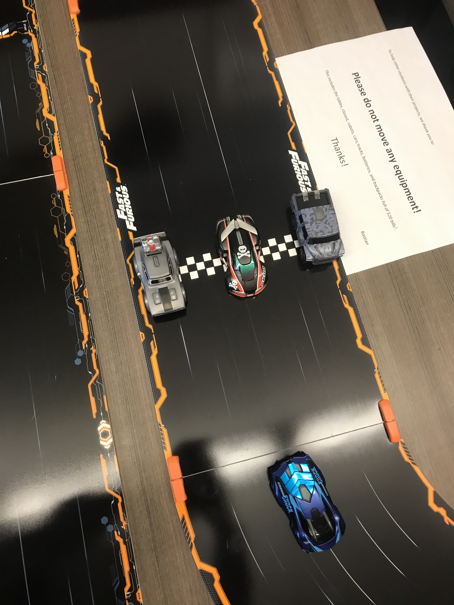Charger: (131, 226, 191, 317)
Finish Line: (149, 230, 316, 284)
MXT: (290, 188, 350, 264)
Shock: (266, 452, 346, 554)
Skull: (215, 215, 271, 298)
